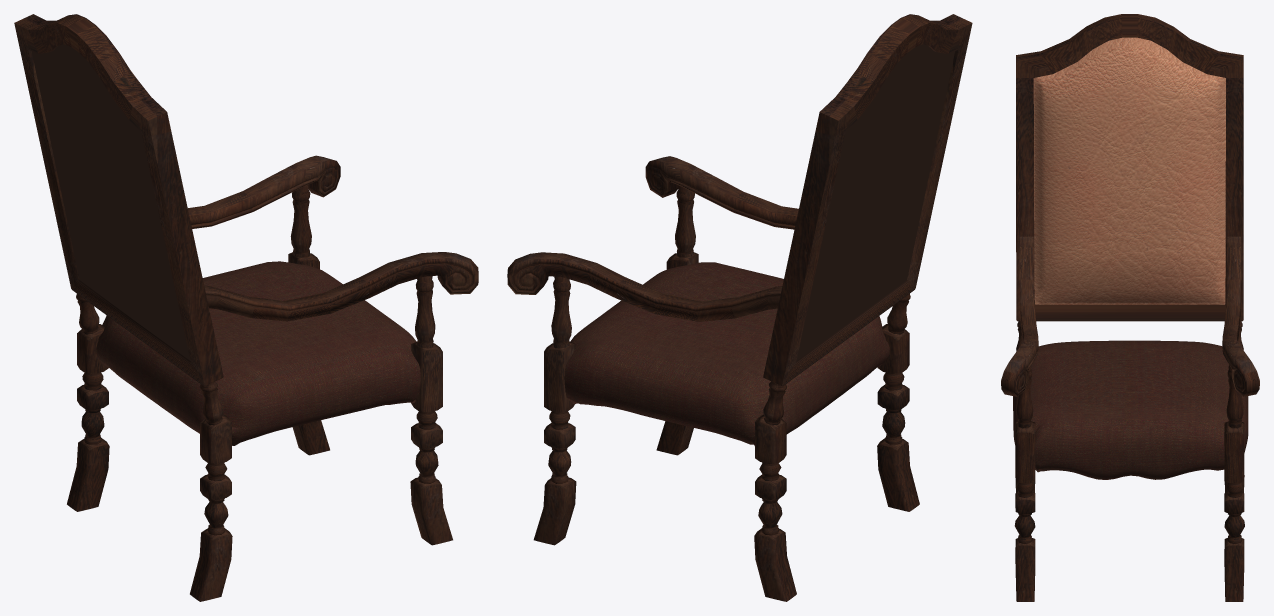
The model's file is SF_yizi.fbx.
3 renders of one model, left to right at view 1: azimuth 30°, elevation 25°; view 2: azimuth 150°, elevation 25°; view 3: azimuth 270°, elevation 25°, orthographic. The views are drawn at different scales.
Visible parts, largest first — view 1: SF_yizi; view 2: SF_yizi; view 3: SF_yizi.
Part boxes in pixels (x1,y1,x2,y2): SF_yizi: [14, 14, 478, 601]; SF_yizi: [507, 14, 972, 601]; SF_yizi: [1001, 14, 1259, 601].
Size of the model in its own units: 94.05 by 144 by 73.38.
